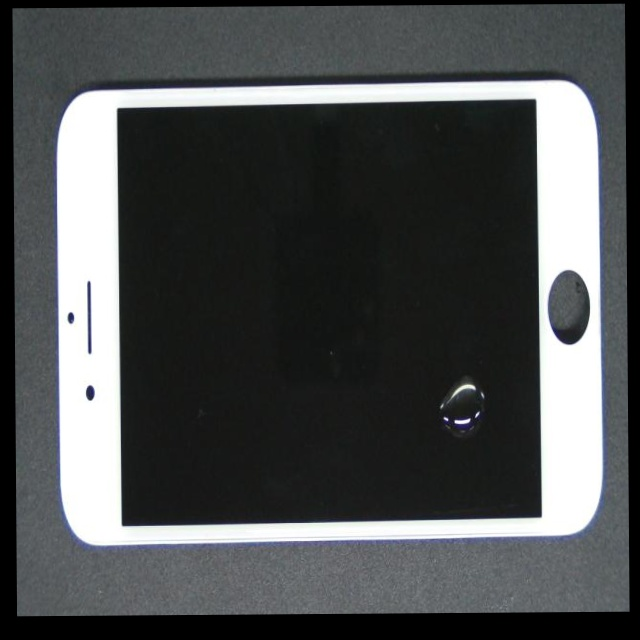oil: (257, 179, 629, 597)
